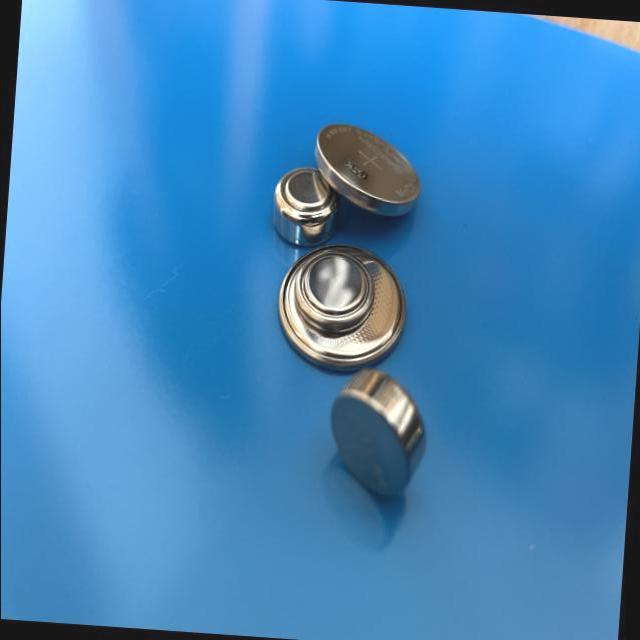COIN: (270, 239, 412, 378), (326, 362, 436, 503), (308, 118, 424, 218), (294, 252, 378, 334), (270, 167, 344, 246)
